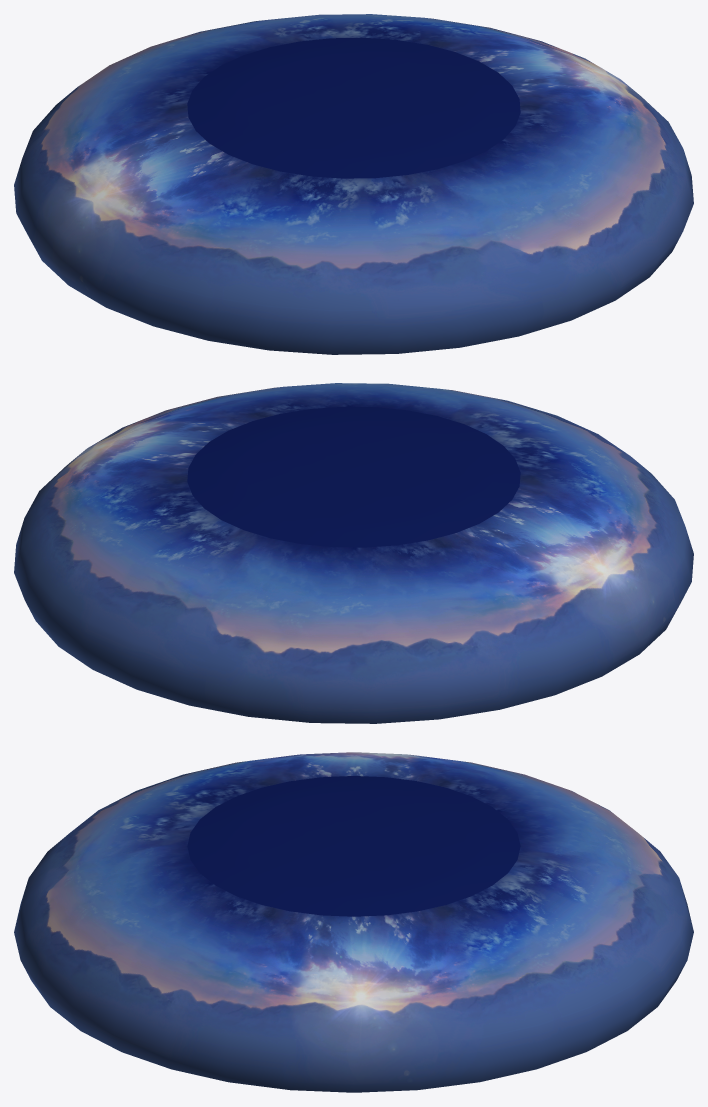
The model's file is Sky.fbx.
The picture shows the model from 3 angles, top to bottom: view 1: azimuth 30°, elevation 25°; view 2: azimuth 150°, elevation 25°; view 3: azimuth 270°, elevation 25°; orthographic projection.
Visible parts, largest first — view 1: 0000_SM_d_114_Sky_01a, 0001_SM_d_114_Sky_01a; view 2: 0000_SM_d_114_Sky_01a, 0001_SM_d_114_Sky_01a; view 3: 0000_SM_d_114_Sky_01a, 0001_SM_d_114_Sky_01a.
Part boxes in pixels (box(x1,y1,x2,y2)): 0000_SM_d_114_Sky_01a: box(14, 14, 693, 354); 0001_SM_d_114_Sky_01a: box(187, 37, 520, 178); 0000_SM_d_114_Sky_01a: box(14, 383, 693, 723); 0001_SM_d_114_Sky_01a: box(187, 406, 520, 547); 0000_SM_d_114_Sky_01a: box(14, 752, 693, 1092); 0001_SM_d_114_Sky_01a: box(187, 776, 520, 916).
Size of the model in its own units: 3629 by 676 by 3629.
